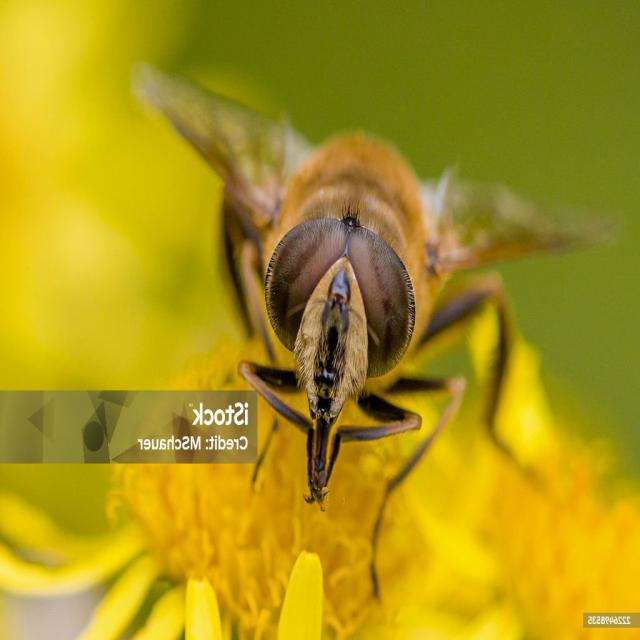hoverfly: (130, 47, 620, 607)
